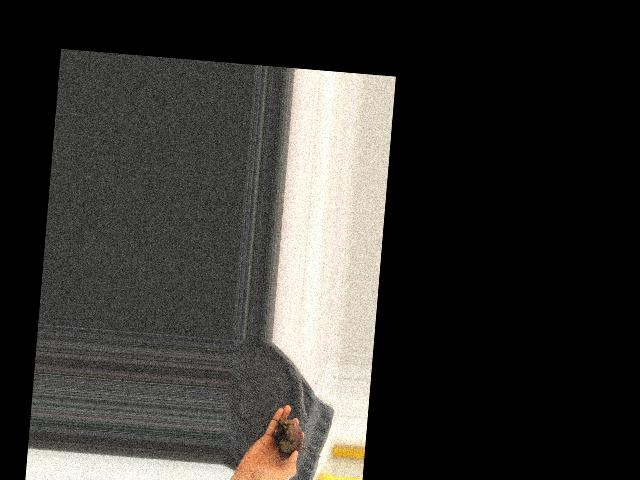beet: (271, 418, 323, 461)
